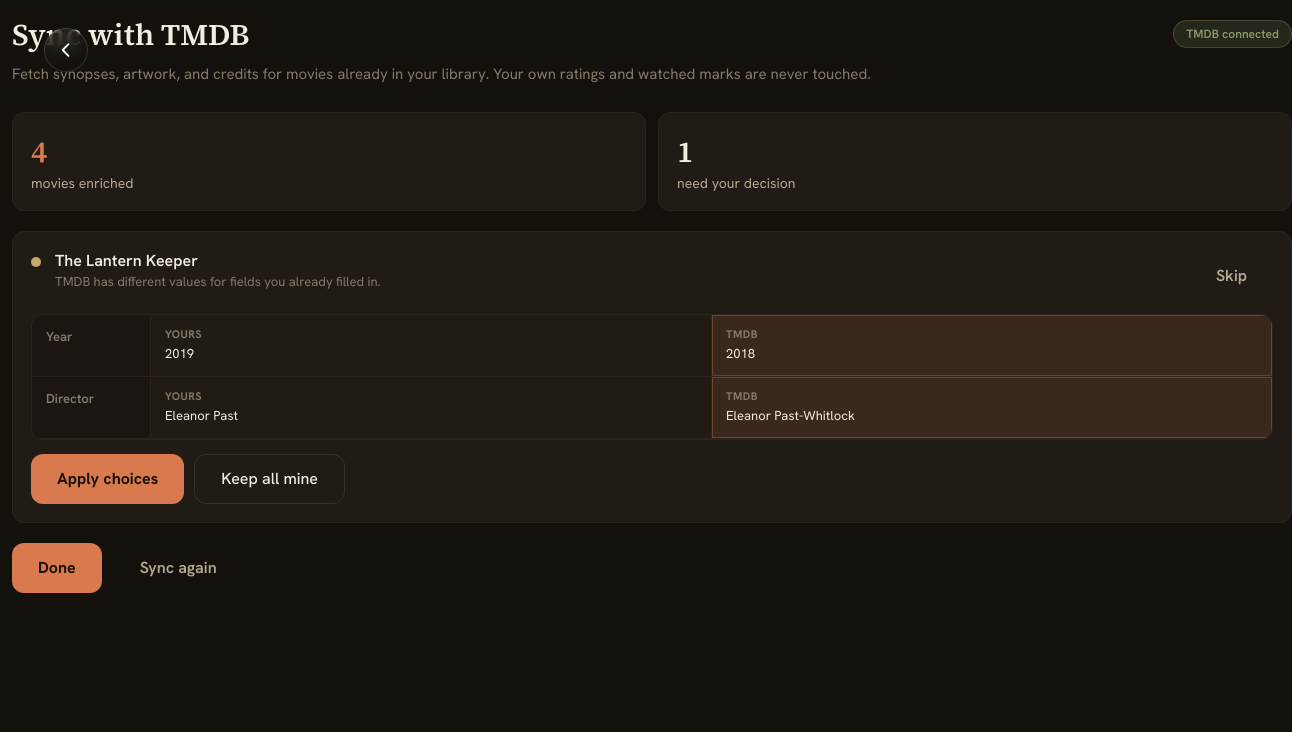
Test: EnrichmentFlow — Keep all mine › sends the Dismiss, applies nothing, and takes the row off
Expected: the text "TMDB has different values for fields you already filled in." is shown, left=55, top=273, right=381, bottom=290
Click the button "Keep all mine": click(270, 479) left=194, top=454, right=345, bottom=504
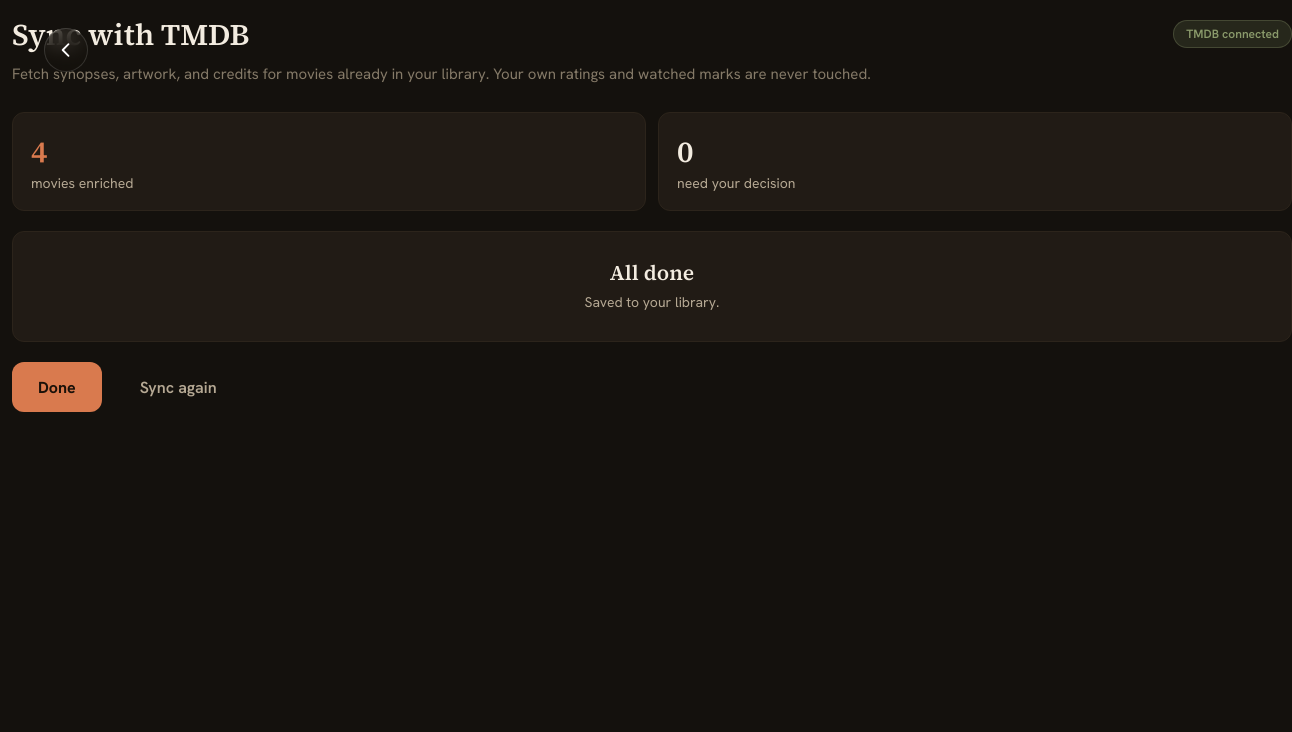
Result: the text "TMDB has different values for fields you already filled in." is gone
